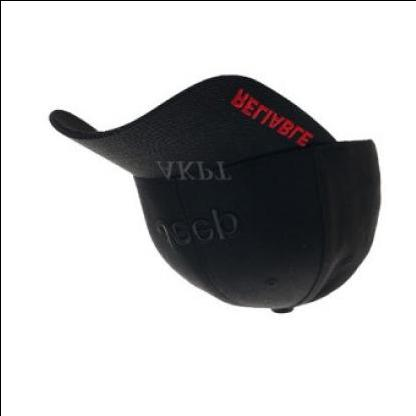cap: (40, 69, 386, 326)
